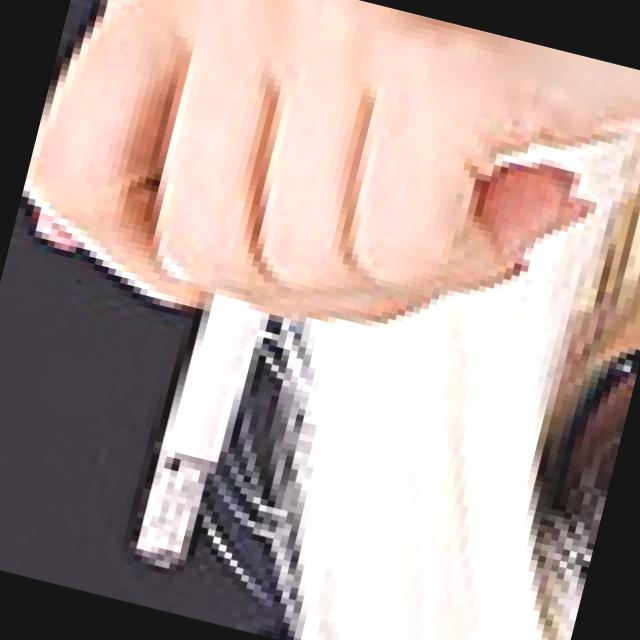cigarette: (97, 252, 311, 609)
